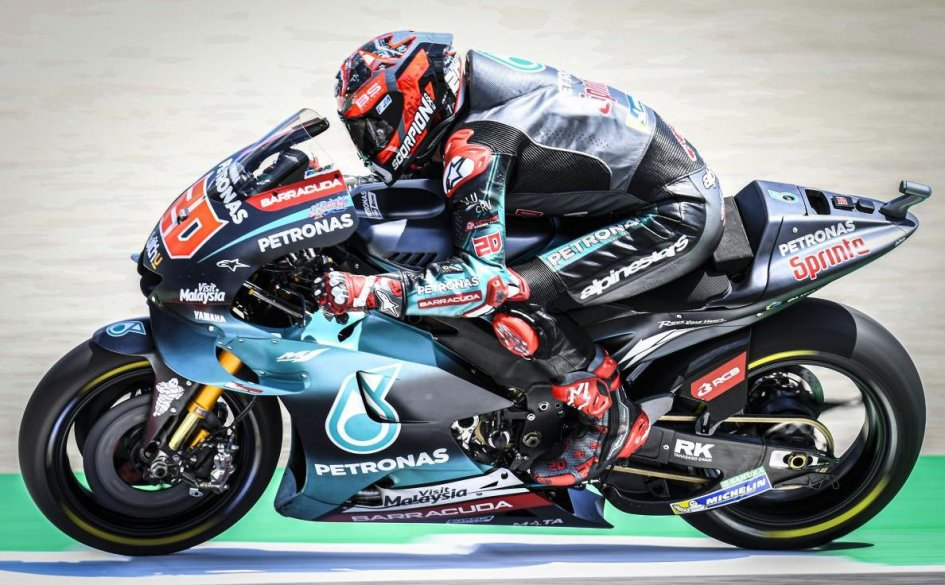helmet: (323, 11, 470, 183)
